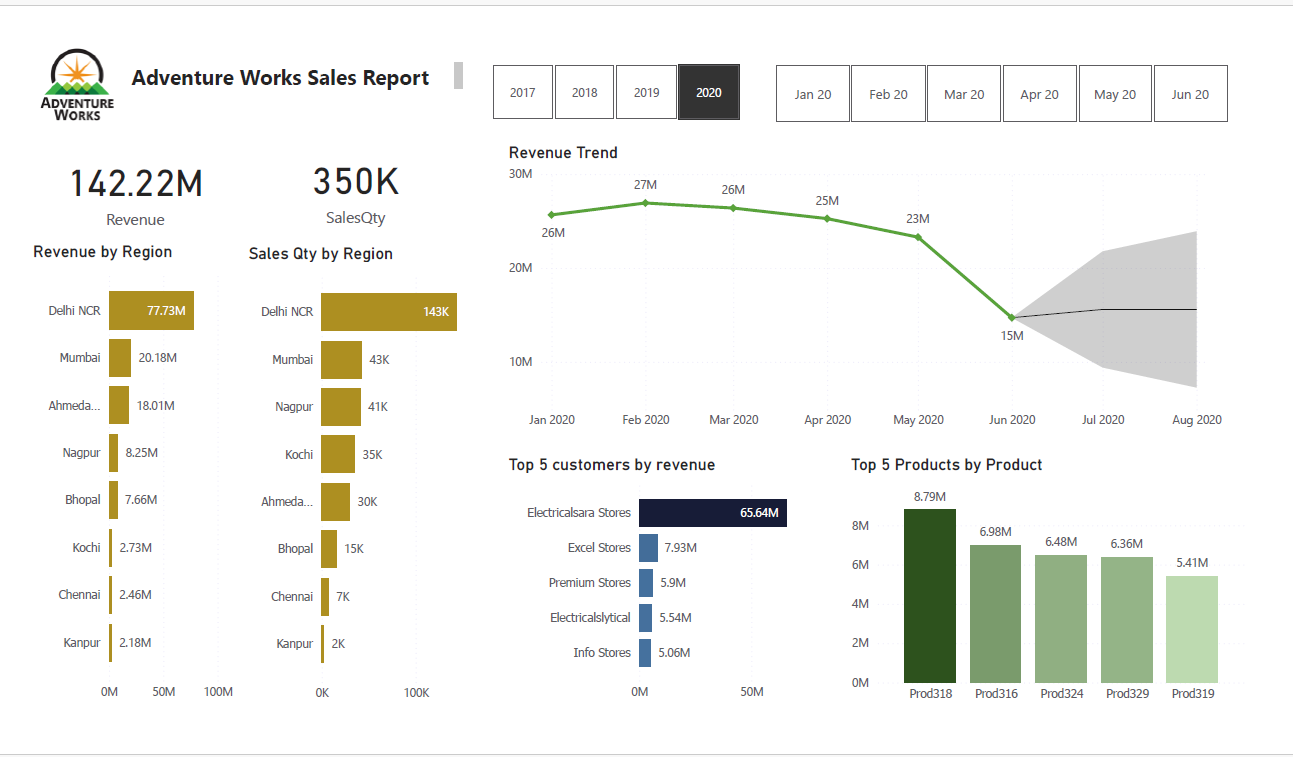

The page's visual inventory and layout, read from the dashboard file:
{"tool":"powerbi","page":{"name":"Sales Report","canvas":[1280,720],"ordinal":0},"visuals":[{"type":"card","fields":{"Values":["BaseMeasures.Revenue"]},"box":[11.4,115.5,206.6,97.6],"z":0},{"type":"card","fields":{"Values":["BaseMeasures.SalesQty"]},"box":[226.2,115.5,229.4,94.4],"z":1000},{"type":"barChart","title":"Revenue by Region","fields":{"Y":["Sum(sales transactions.sales_amount)"],"Category":["sales markets.markets_name"]},"box":[4.9,218,221.3,480],"z":2000},{"type":"barChart","title":"Sales Qty by Region","fields":{"Category":["sales markets.markets_name"],"Y":["Sum(sales transactions.sales_qty)"]},"box":[226.2,219.7,266.8,480],"z":3000},{"type":"slicer","fields":{"Values":["sales date.year"]},"box":[455.6,29.3,302.6,70],"z":4000},{"type":"slicer","fields":{"Values":["sales date.cy_date"]},"box":[746.8,29.3,512.5,73.2],"z":5000},{"type":"barChart","title":"Top 5 customers by revenue","fields":{"Y":["Sum(sales transactions.sales_amount)"],"Category":["sales customers.custmer_name"]},"box":[493,436.1,351.5,262],"z":6000},{"type":"columnChart","title":"Top 5 Products by Product","fields":{"Category":["sales products.product_code"],"Y":["Sum(sales transactions.sales_amount)"]},"box":[844.5,436.1,414.9,263.6],"z":7000},{"type":"lineChart","title":"Revenue Trend","fields":{"Y":["Sum(sales transactions.sales_amount)"],"Category":["sales date.cy_date.Variation.Date Hierarchy.Year"]},"box":[493,115.5,742,304.3],"z":8000},{"type":"image","box":[4.9,9.8,100.9,92.7],"z":9000},{"type":"textbox","box":[105.8,29.3,349.8,37.4],"z":10000}]}

Visuals, with their boxes on the page's 1280x720 design canvas (x1, y1, x2, y2). These are canvas units, not pixel positions in the 1294x757 screenshot, which may show the page scaled, cropped or inside an application window:
card - BaseMeasures.Revenue: [11, 116, 218, 213]
card - BaseMeasures.SalesQty: [226, 116, 456, 210]
"Revenue by Region" barChart: [5, 218, 226, 698]
"Sales Qty by Region" barChart: [226, 220, 493, 700]
slicer - sales date.year: [456, 29, 758, 99]
slicer - sales date.cy_date: [747, 29, 1259, 102]
"Top 5 customers by revenue" barChart: [493, 436, 844, 698]
"Top 5 Products by Product" columnChart: [844, 436, 1259, 700]
"Revenue Trend" lineChart: [493, 116, 1235, 420]
image: [5, 10, 106, 102]
textbox: [106, 29, 456, 67]
